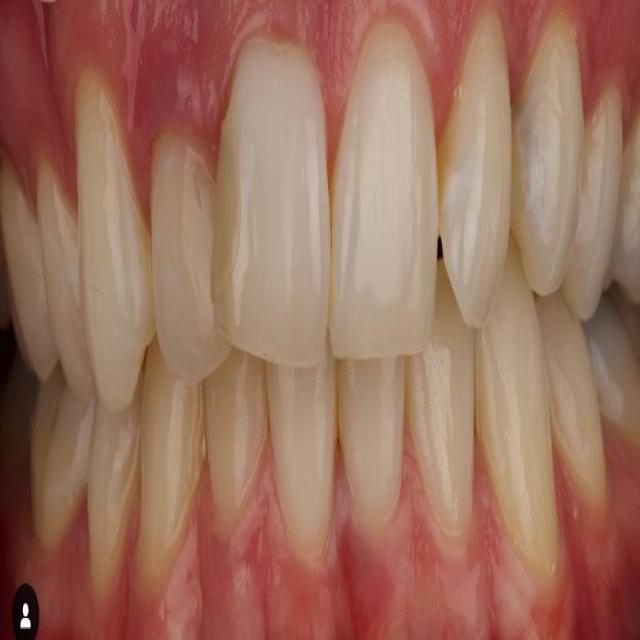1st Molar: (0, 350, 39, 465)
1st Premolar: (534, 294, 609, 516), (563, 88, 622, 323), (35, 171, 92, 394), (89, 407, 138, 600)
2nd Premolar: (0, 160, 58, 381), (31, 370, 95, 552), (583, 299, 640, 454), (614, 126, 640, 295)
Canine: (475, 243, 558, 589), (75, 71, 155, 408), (513, 9, 583, 295), (139, 345, 205, 593)
Central Incisor: (215, 36, 331, 368), (330, 20, 438, 357), (263, 365, 336, 563), (338, 359, 406, 531)
Lateral Incisor: (438, 2, 513, 330), (405, 261, 475, 545), (151, 135, 227, 387), (203, 359, 265, 532)
